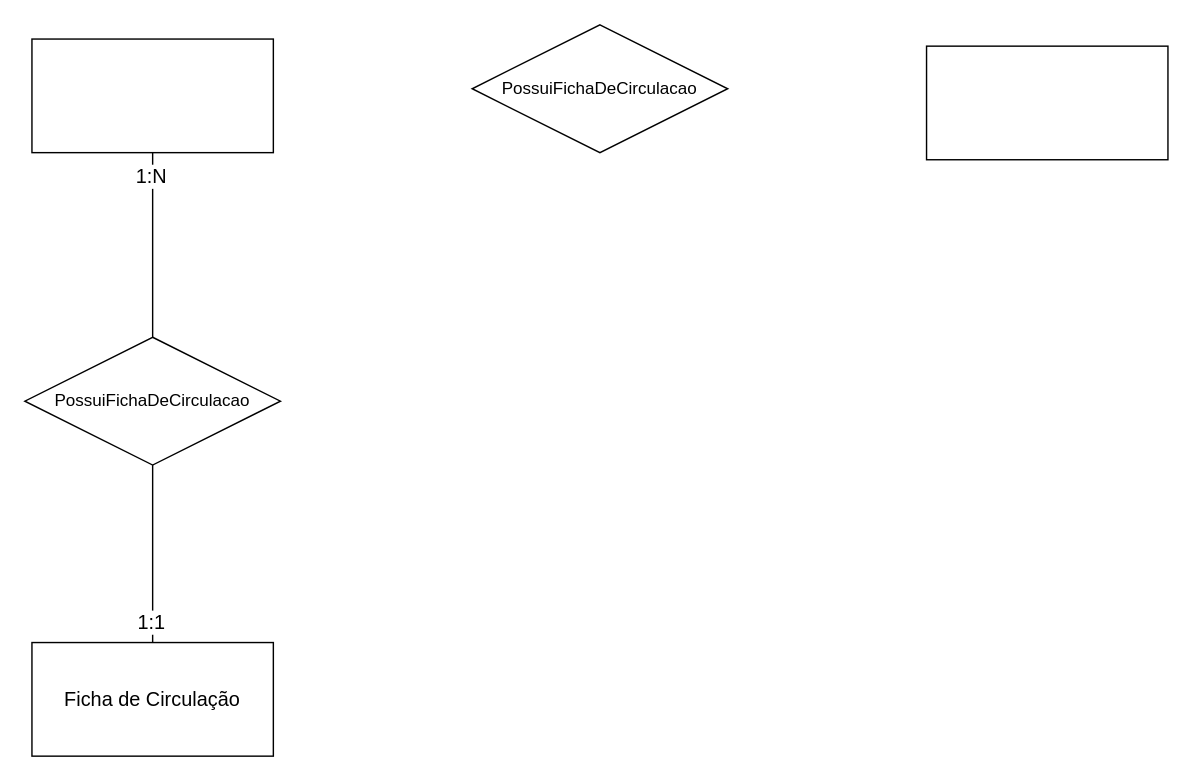
The diagram is 1193 pixels wide and 781 high, and some of its shapes have lost their labels. Here are the shapes that lost their labels. From the top down, the box of each, then its label:
(31, 38, 273, 153): Pasta de Documentos
(925, 45, 1168, 160): PossuiFolhaDeIndexacao
